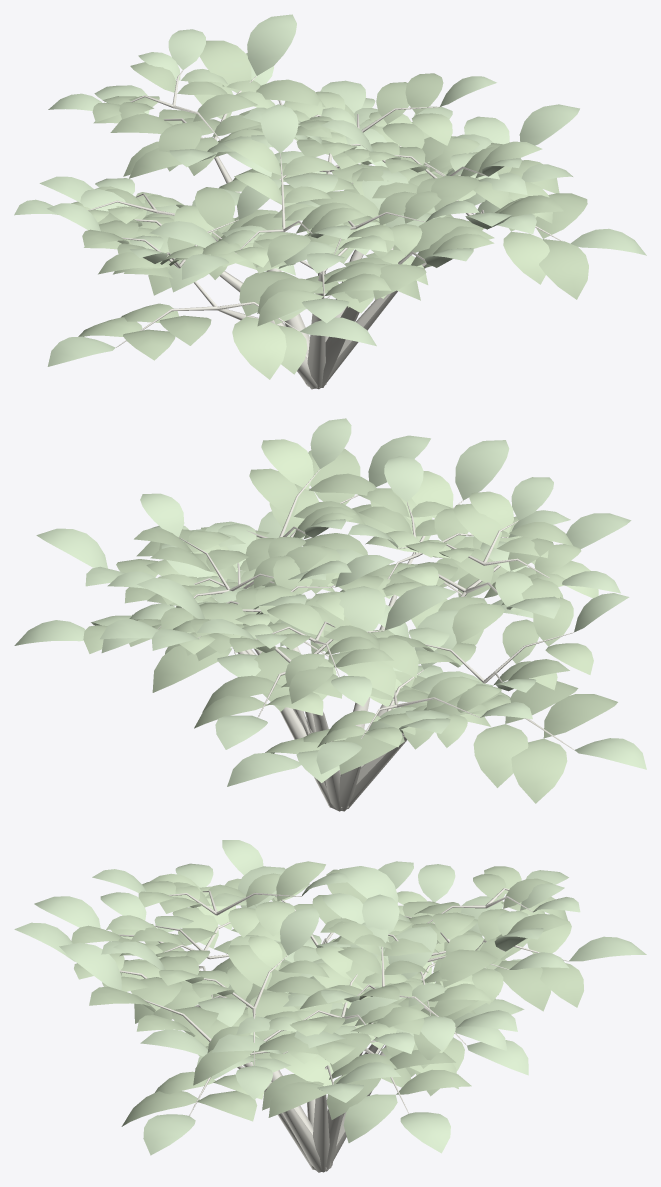
The model's file is SM_WLA_Bush_A.fbx.
The picture shows the model from 3 angles, top to bottom: view 1: azimuth 30°, elevation 25°; view 2: azimuth 150°, elevation 25°; view 3: azimuth 270°, elevation 25°; orthographic projection. The views are drawn at different scales.
Visible parts, largest first — view 1: SM_WLA_Bush_A; view 2: SM_WLA_Bush_A; view 3: SM_WLA_Bush_A.
Part boxes in pixels (x1=…): SM_WLA_Bush_A: x1=14, y1=14, x2=646, y2=389; SM_WLA_Bush_A: x1=14, y1=418, x2=646, y2=811; SM_WLA_Bush_A: x1=14, y1=840, x2=646, y2=1172.
Size of the model in its own units: 2.42 by 2.45 by 1.18.
